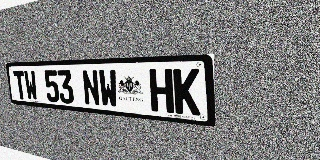3: (57, 70, 74, 104)
5: (44, 70, 60, 103)
H: (149, 69, 174, 113)
K: (173, 68, 200, 116)
N: (81, 70, 101, 107)
T: (13, 70, 27, 100)
W: (98, 69, 119, 108), (24, 70, 38, 101)
